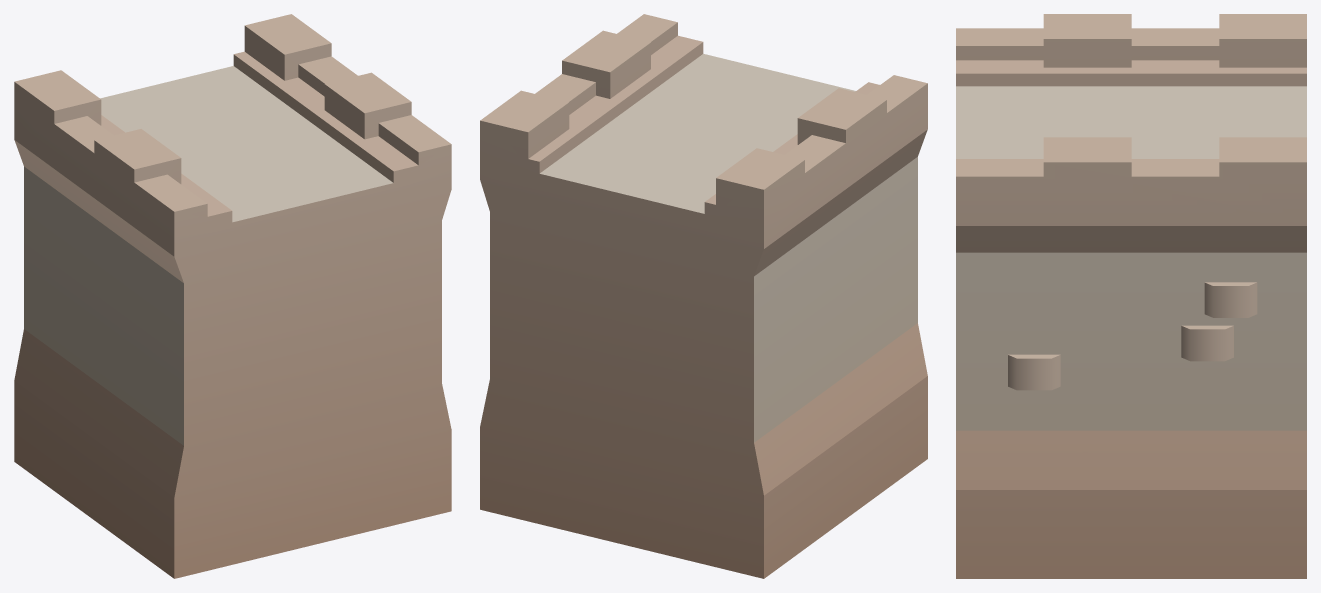
Rendered from wall.glb.
The picture shows the model from 3 angles, left to right: view 1: azimuth 30°, elevation 25°; view 2: azimuth 150°, elevation 25°; view 3: azimuth 270°, elevation 25°; orthographic projection. The views are drawn at different scales.
Parts seen in each view (by area): view 1: wall; view 2: wall; view 3: wall.
Boxes of the visible parts, x1,y1,x2,y2 form: wall: (14, 14, 451, 578); wall: (480, 14, 927, 578); wall: (956, 14, 1306, 578).
Bounding box in the file's own units: 1 × 1.31 × 1.
